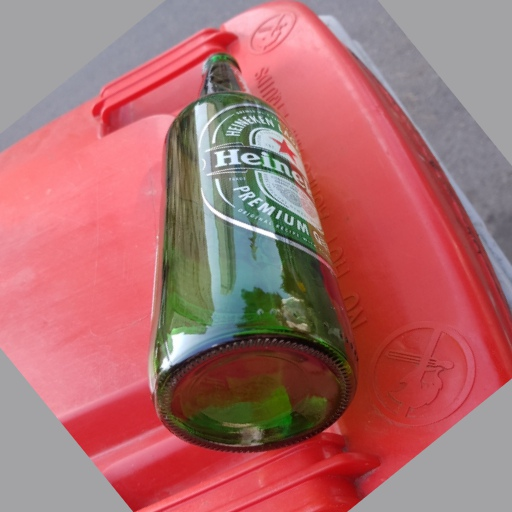Glass_1: (146, 53, 361, 454)
